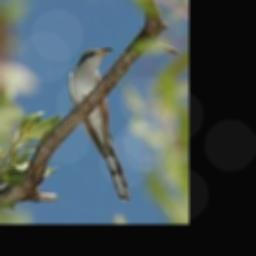Cuckoo: (68, 46, 130, 203)
